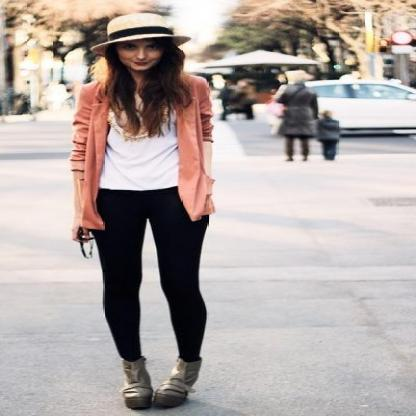hat: (107, 13, 186, 51)
jacket: (71, 61, 214, 233)
pants: (88, 186, 208, 362)
shirt: (100, 128, 178, 190)
shoe: (122, 358, 200, 410)
